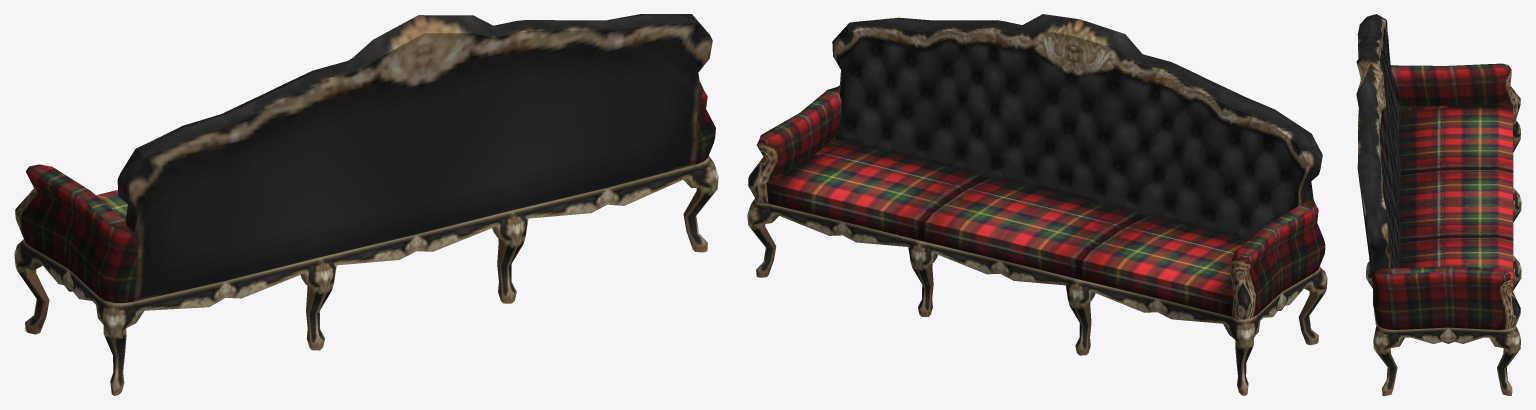
File: furni_0200310.FBX
The picture shows the model from 3 angles, left to right: view 1: azimuth 30°, elevation 25°; view 2: azimuth 150°, elevation 25°; view 3: azimuth 270°, elevation 25°; orthographic projection. The views are drawn at different scales.
Parts seen in each view (by area): view 1: furni_0200310; view 2: furni_0200310; view 3: furni_0200310.
Boxes of the visible parts, x1,y1,x2,y2 form: furni_0200310: (14, 14, 718, 395); furni_0200310: (747, 14, 1327, 395); furni_0200310: (1356, 14, 1521, 395).
Bounding box in the file's own units: 237 × 116 × 75.87.
Materials: 1 (1 with a texture image).
